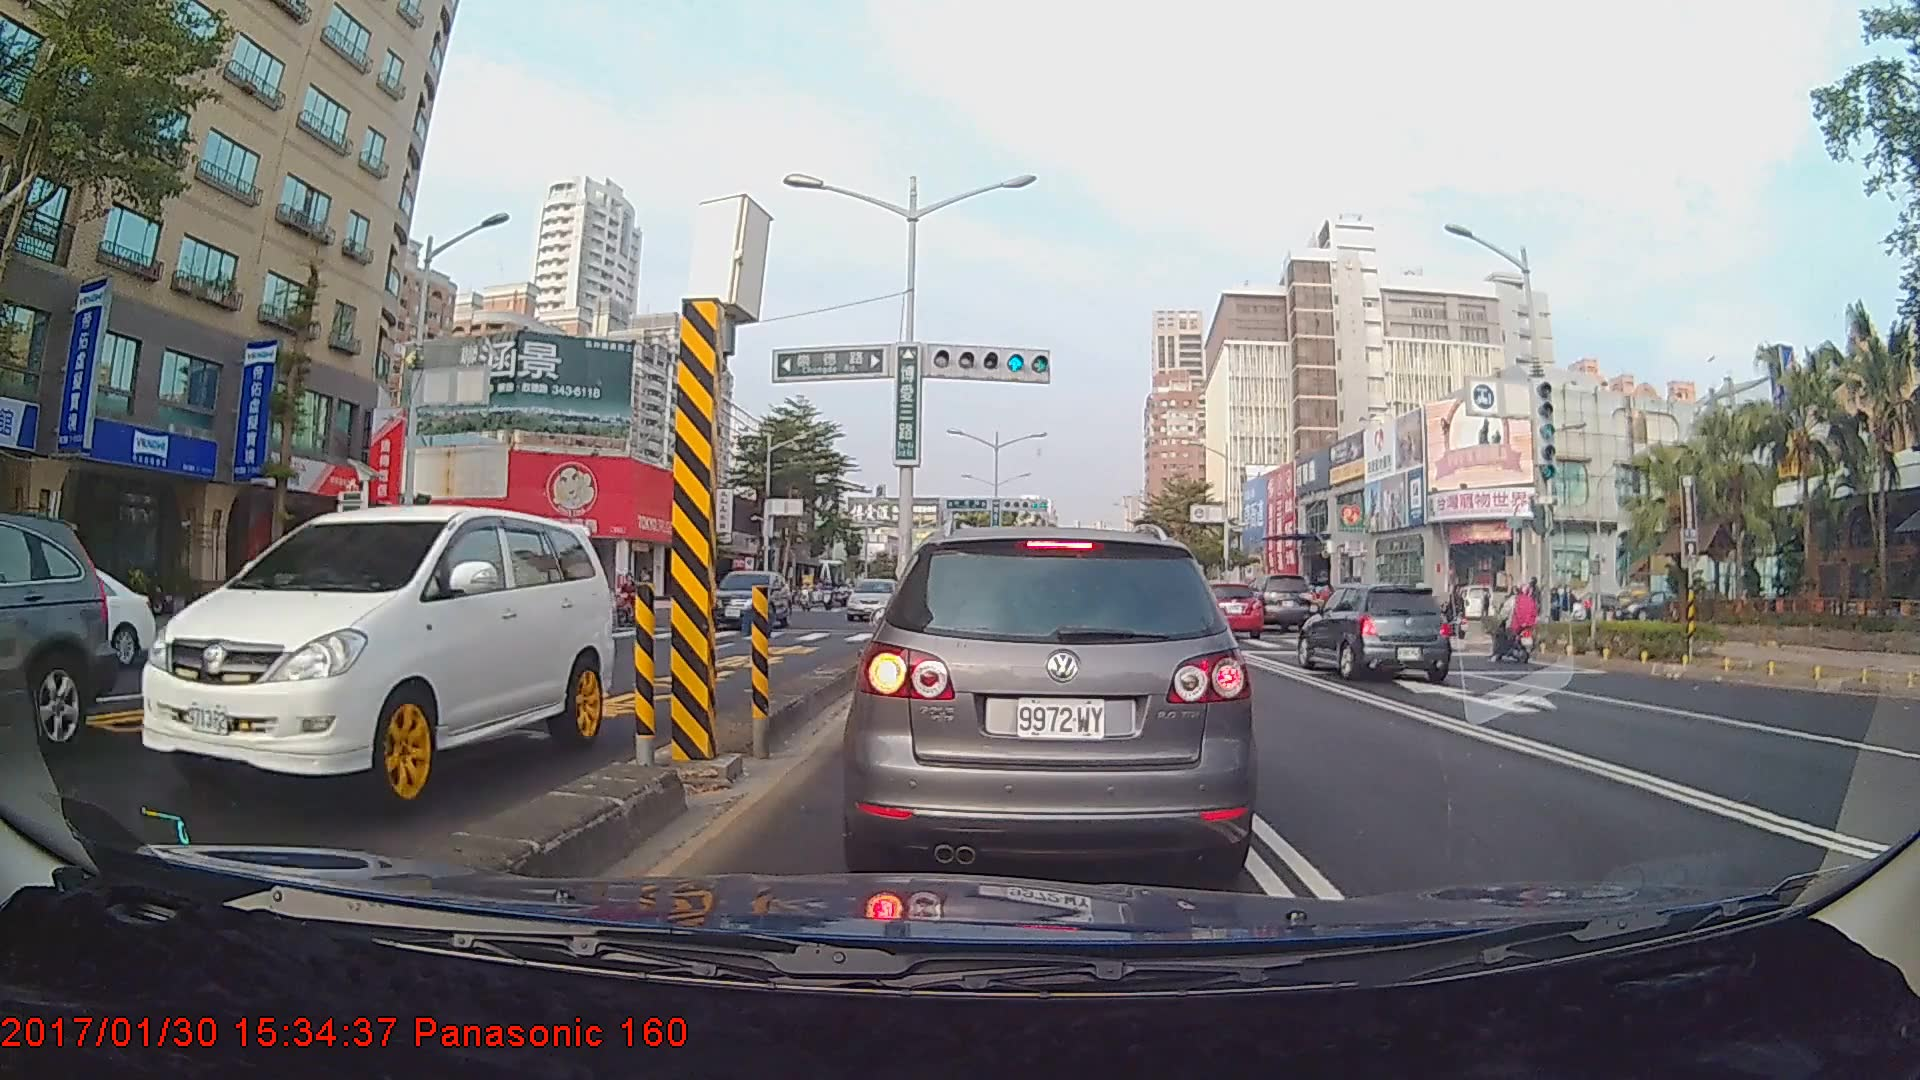rider: (1485, 582, 1548, 668), (611, 566, 641, 633)
vehicle: (138, 503, 613, 818), (855, 522, 1248, 884), (0, 508, 123, 757), (0, 561, 158, 671), (1294, 581, 1451, 682), (701, 569, 790, 629), (1233, 571, 1313, 633), (1188, 580, 1264, 639), (845, 577, 902, 619)
